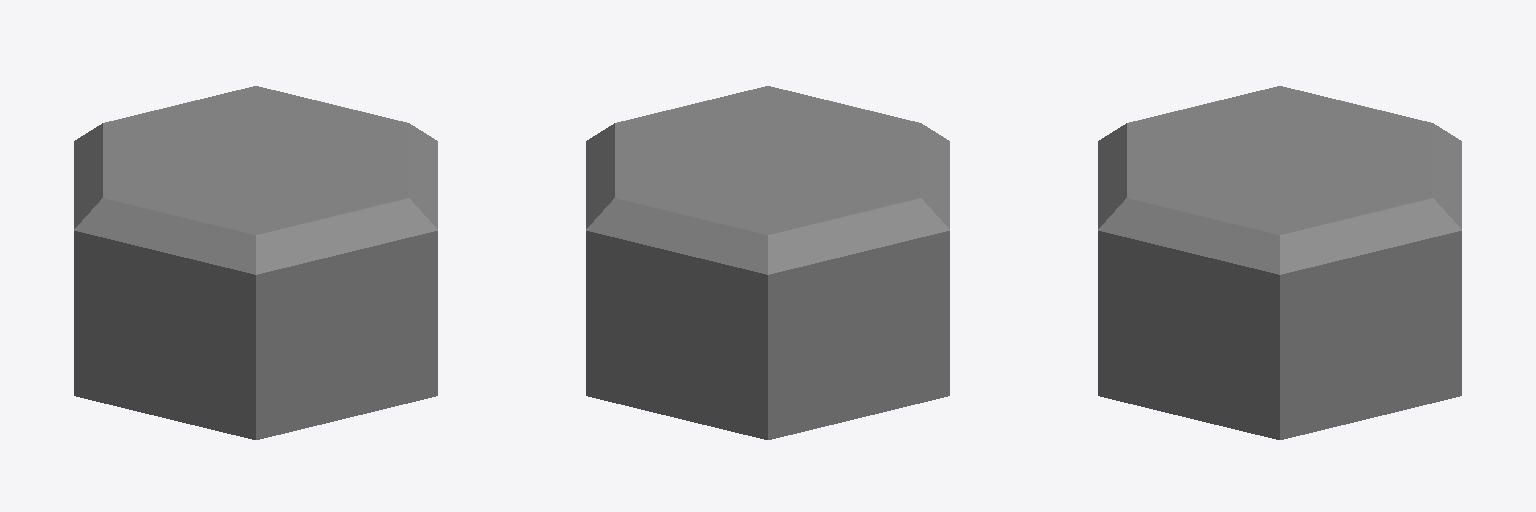
Rendered from HealthPackBaseModel.obj.
3 views of the same model, side by side, from view 1: azimuth 30°, elevation 25°; view 2: azimuth 150°, elevation 25°; view 3: azimuth 270°, elevation 25° (orthographic).
Visible parts, largest first — view 1: HealthPackBaseModel; view 2: HealthPackBaseModel; view 3: HealthPackBaseModel.
Boxes of the visible parts, box(x1,y1,x2,y2) form: HealthPackBaseModel: box(74, 86, 437, 439); HealthPackBaseModel: box(586, 86, 949, 439); HealthPackBaseModel: box(1098, 86, 1461, 439).
Bounding box in the file's own units: 1 × 0.5 × 0.866.